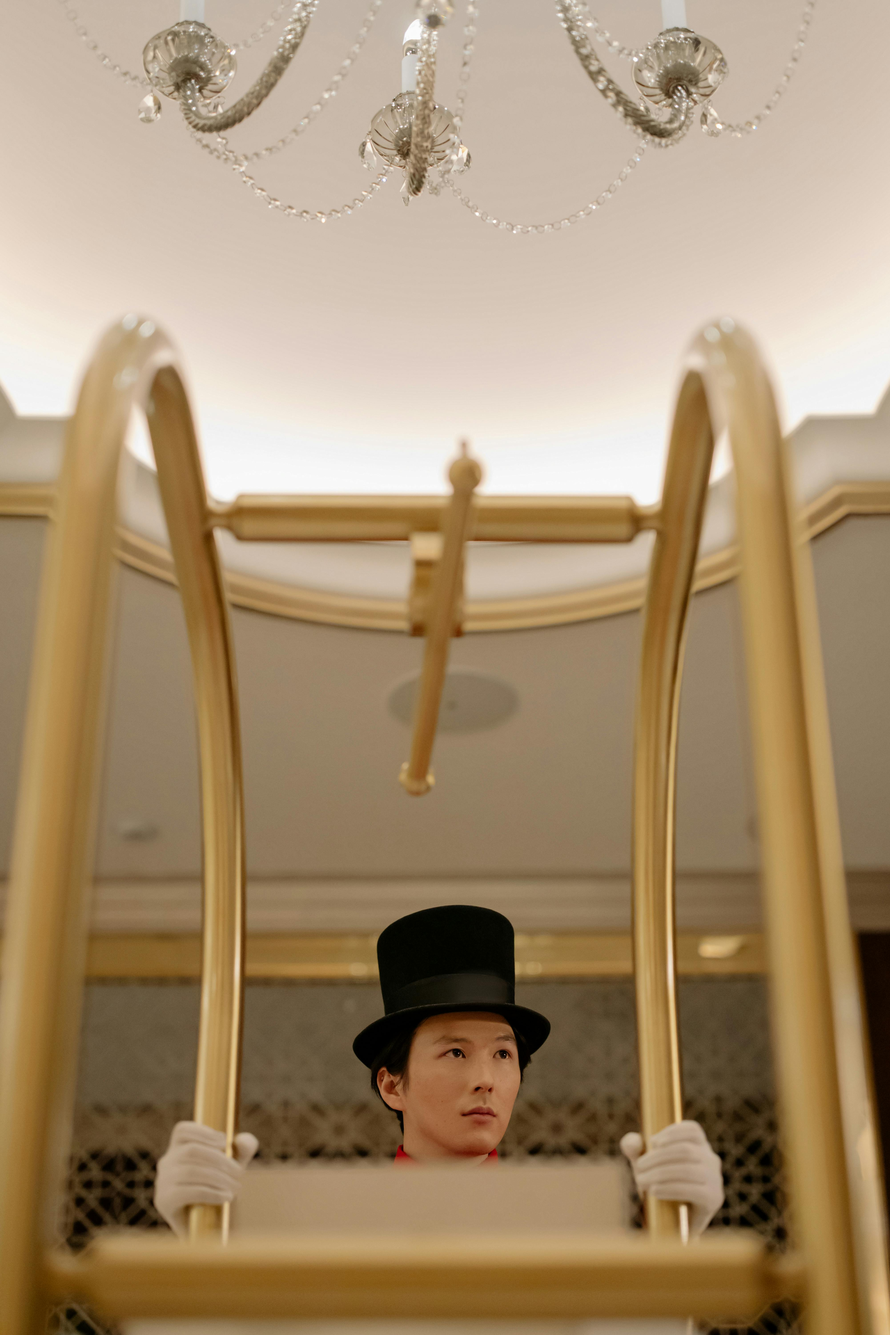gloves: (140, 1107, 262, 1225), (607, 1103, 739, 1200)
